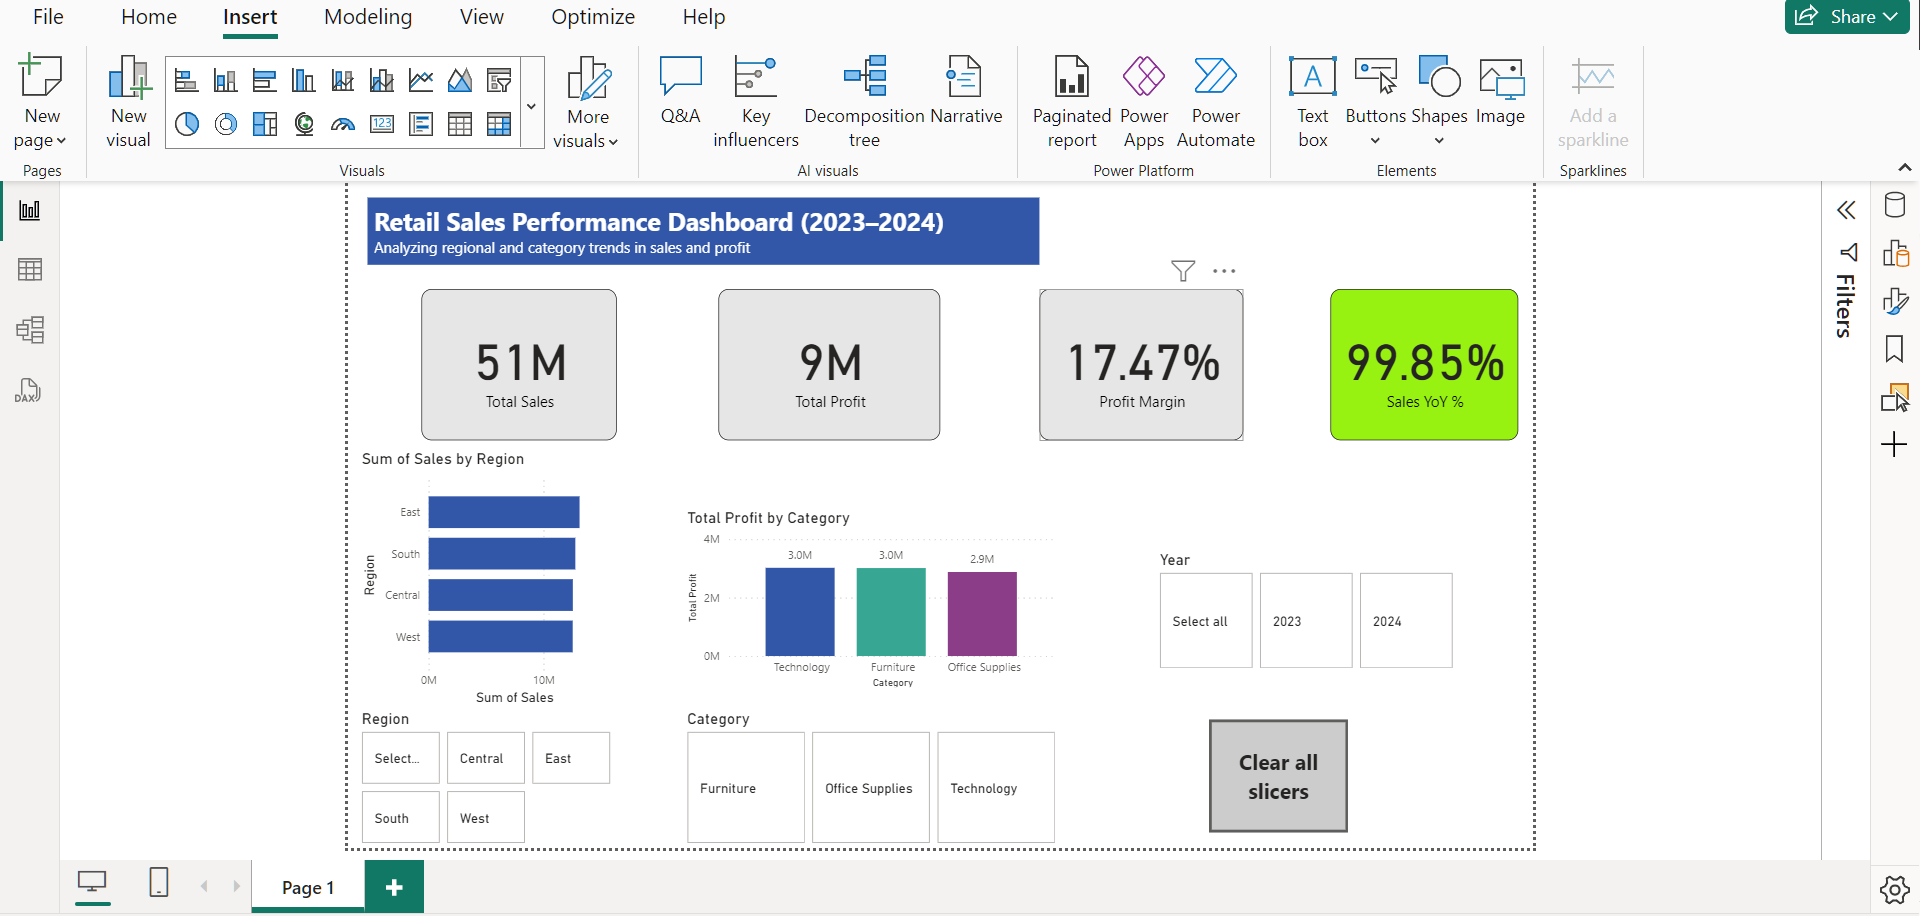

What the dashboard file says about the page in this screenshot:
{"tool":"powerbi","page":{"name":"Page 1","canvas":[1280,720],"ordinal":0},"visuals":[{"type":"card","fields":{"Values":["Sales.Total Sales"]},"box":[79.3,116.6,210.5,163.5],"z":0},{"type":"card","fields":{"Values":["Sales.Total Profit"]},"box":[399.9,116.6,239.6,163.5],"z":1000},{"type":"card","fields":{"Values":["Sales.Profit Margin"]},"box":[746.5,116.6,220.2,163.5],"z":2000},{"type":"card","fields":{"Values":["Sales.Sales YoY %"]},"box":[1060.6,116.6,202.4,163.5],"z":3000},{"type":"barChart","fields":{"Category":["Sales.Region"],"Y":["Sum(Sales.Sales)"]},"box":[10,290,280,280],"z":4000},{"type":"columnChart","fields":{"Y":["Sales.Total Profit"],"Category":["Sales.Category"]},"box":[360.5,352.4,409.1,198.5],"z":5000},{"type":"advancedSlicerVisual","fields":{"Values":["Date.Year"]},"box":[871.7,399.1,327.6,133],"z":6000},{"type":"advancedSlicerVisual","fields":{"Values":["Sales.Region"]},"box":[10,570,280,150],"z":7000},{"type":"advancedSlicerVisual","fields":{"Values":["Sales.Category"]},"box":[361,570,409,150],"z":8000},{"type":"textbox","box":[1035.2,643.8,45.4,42.5],"z":9000},{"type":"textbox","box":[21,17.8,725.4,72.9],"z":10000},{"type":"actionButton","title":"Reset Filters","box":[930.2,581.4,150.3,122],"z":10001}]}

Visuals, with their boxes on the page's 1280x720 design canvas (x1, y1, x2, y2). These are canvas units, not pixel positions in the 1920x916 screenshot, which may show the page scaled, cropped or inside an application window:
card - Sales.Total Sales: crop(79, 117, 290, 280)
card - Sales.Total Profit: crop(400, 117, 640, 280)
card - Sales.Profit Margin: crop(746, 117, 967, 280)
card - Sales.Sales YoY %: crop(1061, 117, 1263, 280)
barChart - Sales.Region x Sum(Sales.Sales): crop(10, 290, 290, 570)
columnChart - Sales.Total Profit x Sales.Category: crop(360, 352, 770, 551)
advancedSlicerVisual - Date.Year: crop(872, 399, 1199, 532)
advancedSlicerVisual - Sales.Region: crop(10, 570, 290, 720)
advancedSlicerVisual - Sales.Category: crop(361, 570, 770, 720)
textbox: crop(1035, 644, 1081, 686)
textbox: crop(21, 18, 746, 91)
"Reset Filters" actionButton: crop(930, 581, 1080, 703)
